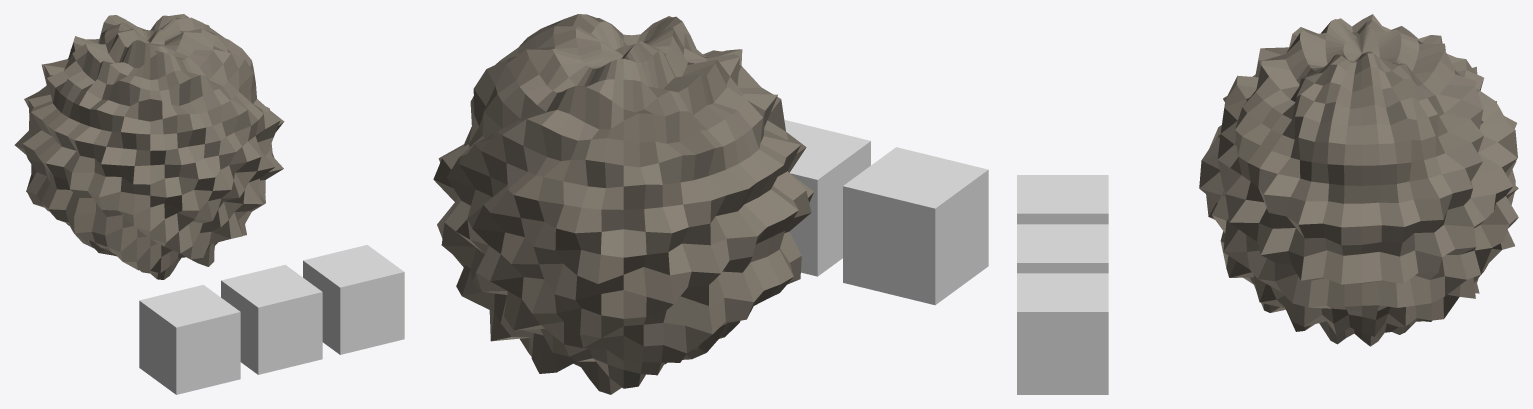
The model's file is material-calibration.glb.
3 views of the same model, side by side, from view 1: azimuth 30°, elevation 25°; view 2: azimuth 150°, elevation 25°; view 3: azimuth 270°, elevation 25° (orthographic). The views are drawn at different scales.
Parts seen in each view (by area): view 1: original_ore_bake, Cube, Cube.001, Cube.002; view 2: original_ore_bake, Cube, Cube.001; view 3: original_ore_bake, Cube.002, Cube, Cube.001.
Boxes of the visible parts, x1,y1,x2,y2 form: original_ore_bake: [14, 14, 284, 279]; Cube: [139, 285, 240, 394]; Cube.001: [221, 264, 322, 374]; Cube.002: [303, 245, 404, 354]; original_ore_bake: [433, 14, 813, 394]; Cube: [843, 147, 988, 305]; Cube.001: [784, 120, 870, 276]; original_ore_bake: [1199, 14, 1518, 346]; Cube.002: [1017, 273, 1108, 394]; Cube: [1017, 175, 1108, 224]; Cube.001: [1017, 224, 1108, 273].
Bounding box in the file's own units: 1.95 × 1.95 × 3.02.
